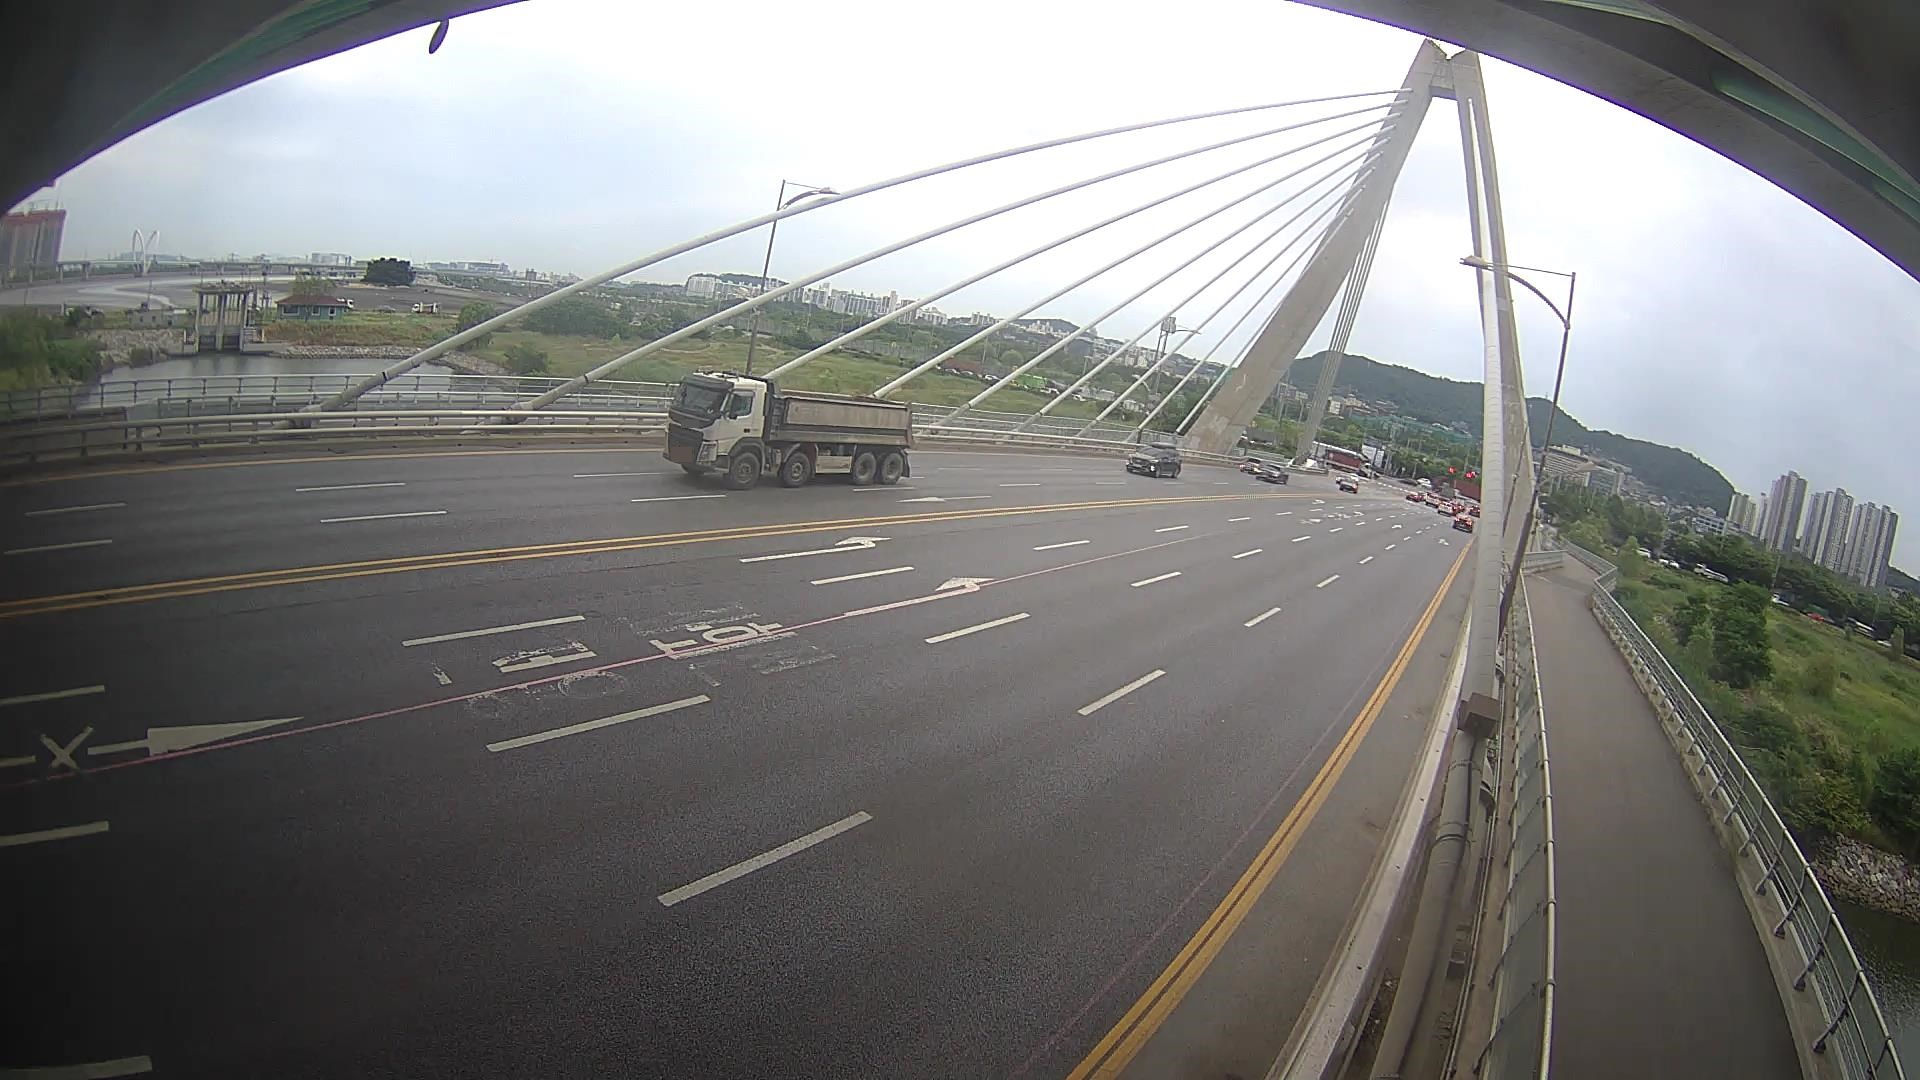정상차량: (662, 369, 918, 491)
